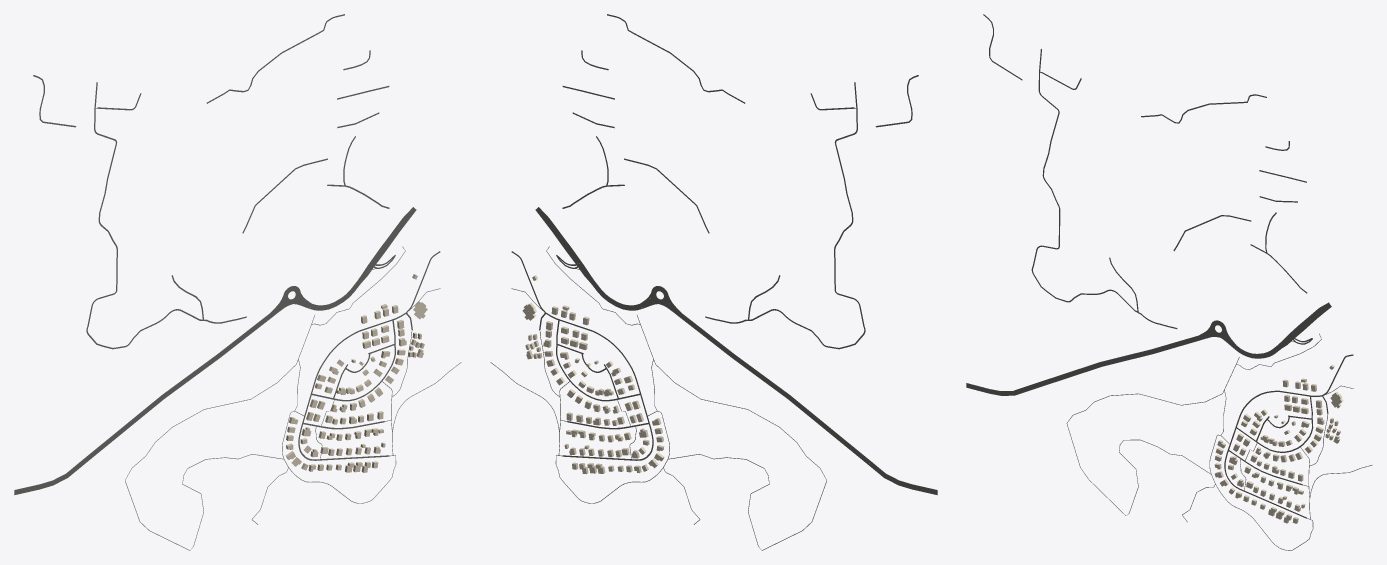
The model's file is historic-palestine-09_20_3507_3149.glb.
3 views of the same model, side by side, from view 1: azimuth 30°, elevation 25°; view 2: azimuth 150°, elevation 25°; view 3: azimuth 330°, elevation 25° (orthographic). The views are drawn at different scales.
Visible parts, largest first — view 1: Road 60.002, Road .007, Road ארץ יהודה, Road .031; view 2: Road 60.002, Road .007, Road ארץ יהודה, Road .031; view 3: Road 60.002, Road .007, Road ארץ יהודה, Road .031.
Boxes of the visible parts, x1,y1,x2,y2 form: Road 60.002: (14, 313, 271, 495); Road .007: (86, 108, 246, 349); Road ארץ יהודה: (298, 251, 440, 460); Road .031: (125, 359, 298, 550); Road 60.002: (680, 313, 937, 495); Road .007: (705, 108, 865, 349); Road ארץ יהודה: (511, 251, 653, 460); Road .031: (653, 359, 826, 550); Road 60.002: (966, 336, 1200, 395); Road .007: (1031, 72, 1177, 328); Road ארץ יהודה: (1224, 354, 1353, 518); Road .031: (1066, 390, 1224, 515).
Bounding box in the file's own units: 1073 × 1179 × 8.7.
